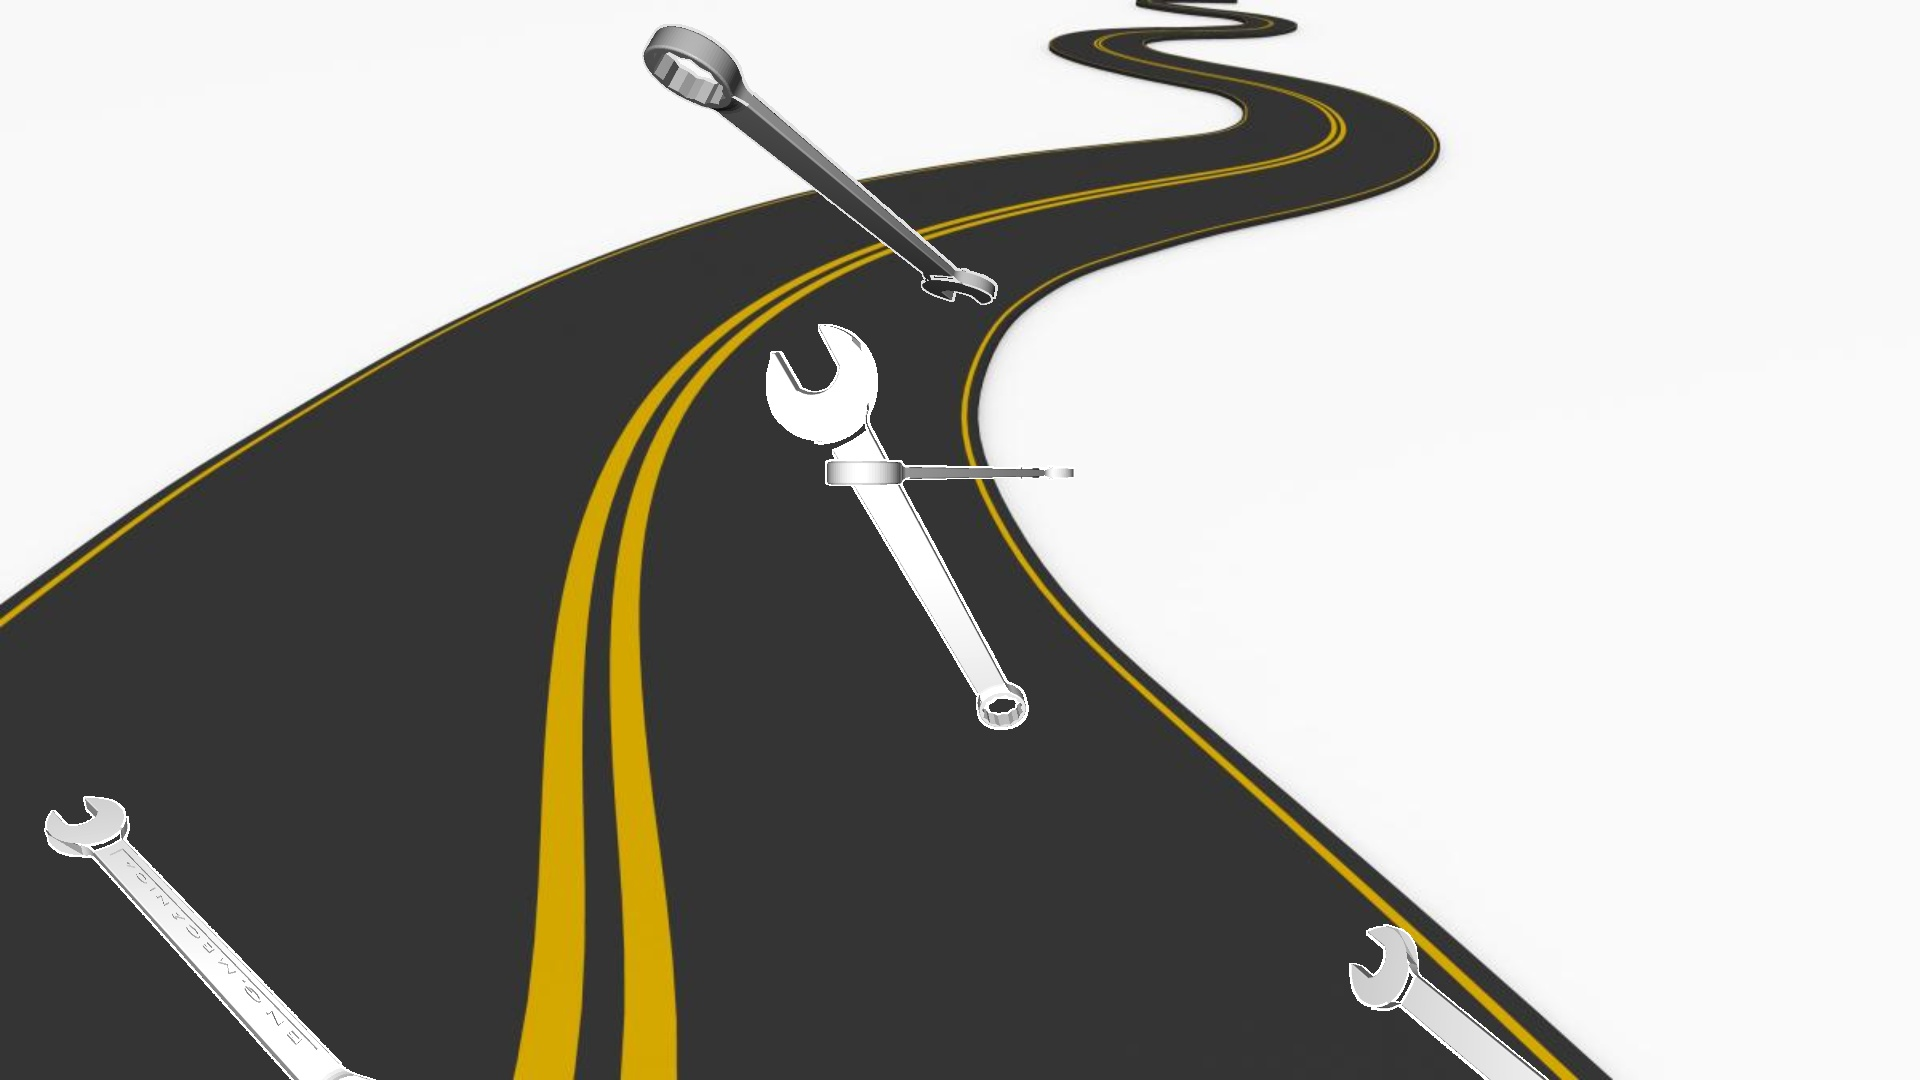Mixed Key: (766, 324, 1029, 729), (642, 24, 997, 305), (44, 796, 375, 1079), (1349, 924, 1548, 1079), (825, 459, 1073, 485)
